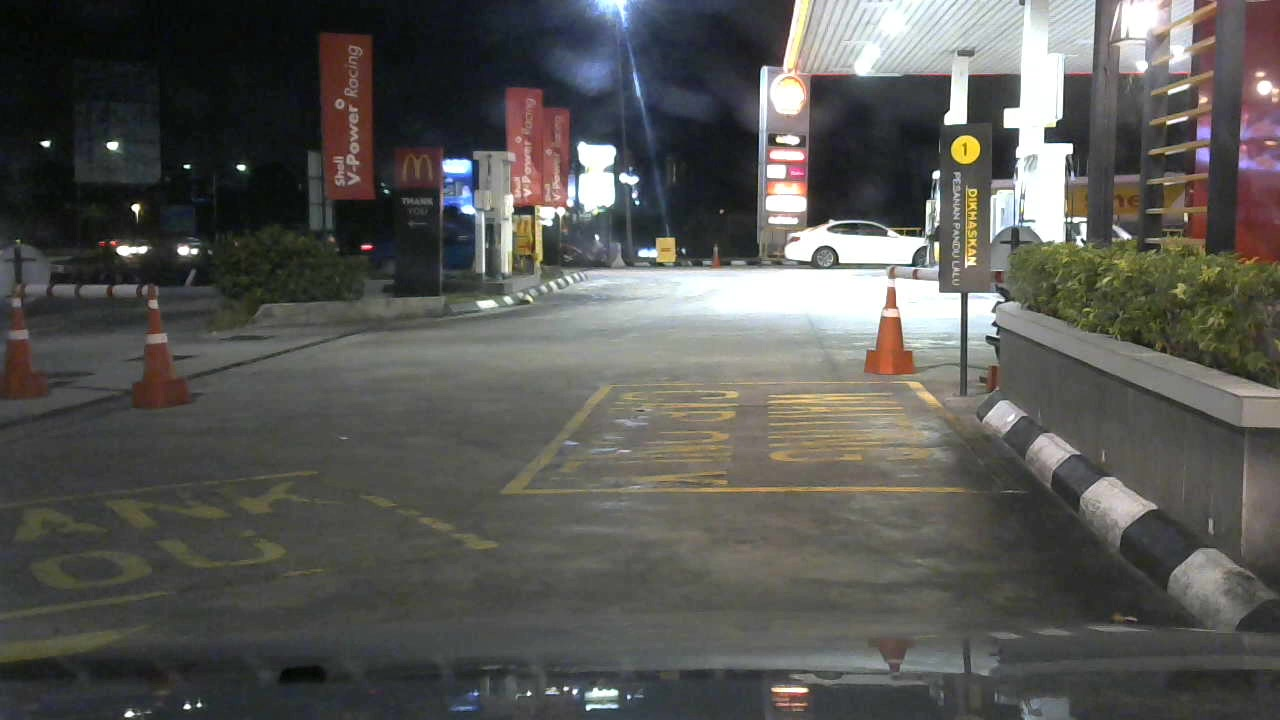Car: (774, 197, 949, 264)
